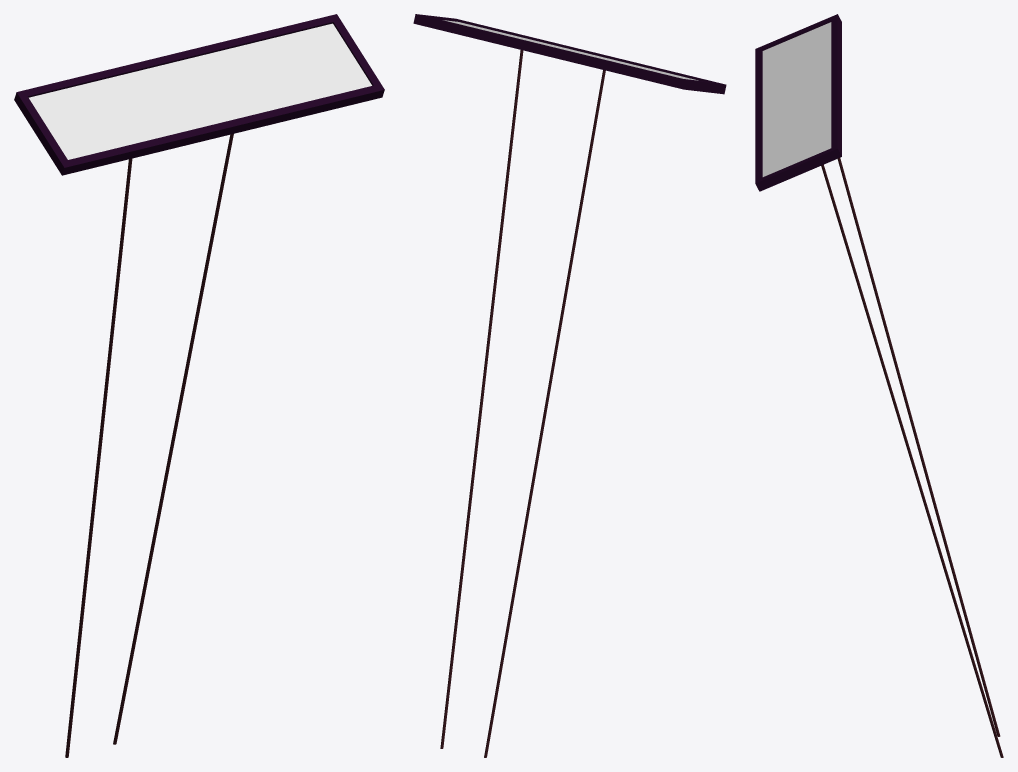
The model's file is screen_wave.glb.
3 views of the same model, side by side, from view 1: azimuth 30°, elevation 25°; view 2: azimuth 150°, elevation 25°; view 3: azimuth 270°, elevation 25° (orthographic). The views are drawn at different scales.
Parts seen in each view (by area): view 1: screen, structure, bar 2, bar 1; view 2: structure, bar 2, bar 1, screen; view 3: screen, structure, bar 2, bar 1.
Part boxes in pixels (bbox=[...]): screen: bbox=[29, 23, 371, 159]; structure: bbox=[14, 14, 384, 175]; bar 2: bbox=[113, 134, 233, 744]; bar 1: bbox=[65, 158, 132, 757]; structure: bbox=[413, 14, 726, 94]; bar 2: bbox=[440, 50, 523, 748]; bar 1: bbox=[484, 70, 605, 757]; screen: bbox=[443, 20, 698, 80]; screen: bbox=[762, 22, 831, 176]; structure: bbox=[755, 14, 841, 191]; bar 2: bbox=[821, 164, 1003, 757]; bar 1: bbox=[837, 158, 1000, 736].
Size of the model in its own units: 6.91 by 15.84 by 5.39.
